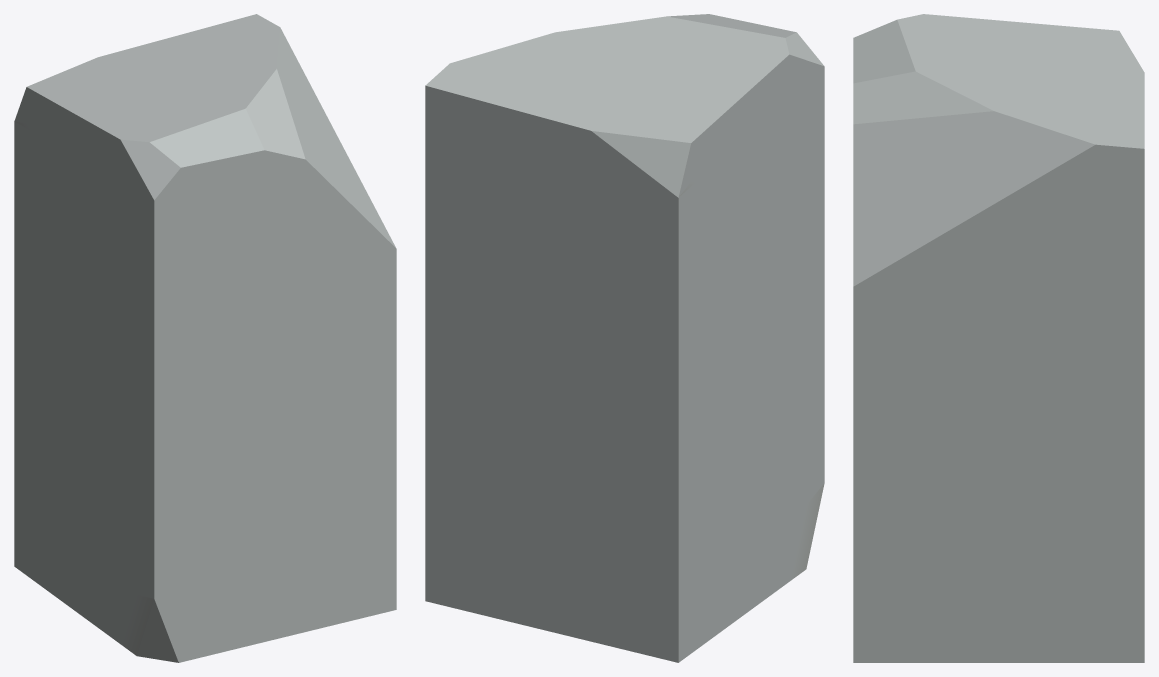
File: Rock_Square_m_06.fbx
The picture shows the model from 3 angles, left to right: view 1: azimuth 30°, elevation 25°; view 2: azimuth 150°, elevation 25°; view 3: azimuth 270°, elevation 25°; orthographic projection. The views are drawn at different scales.
Parts seen in each view (by area): view 1: Rock_Square_m_06; view 2: Rock_Square_m_06; view 3: Rock_Square_m_06.
Boxes of the visible parts, <box> form: Rock_Square_m_06: <box>14,14,396,662</box>; Rock_Square_m_06: <box>425,14,824,662</box>; Rock_Square_m_06: <box>853,14,1144,662</box>.
Bounding box in the file's own units: 43.2 × 86.66 × 43.2.
